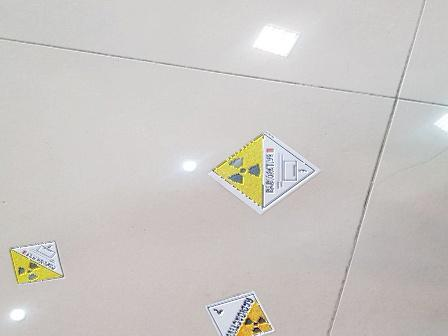radioactive: (208, 131, 320, 213), (205, 290, 275, 336), (7, 241, 64, 283)
